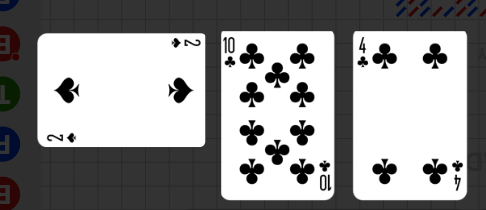10C: (223, 35, 238, 70)
2S: (45, 130, 79, 144)
4C: (449, 158, 463, 192)
